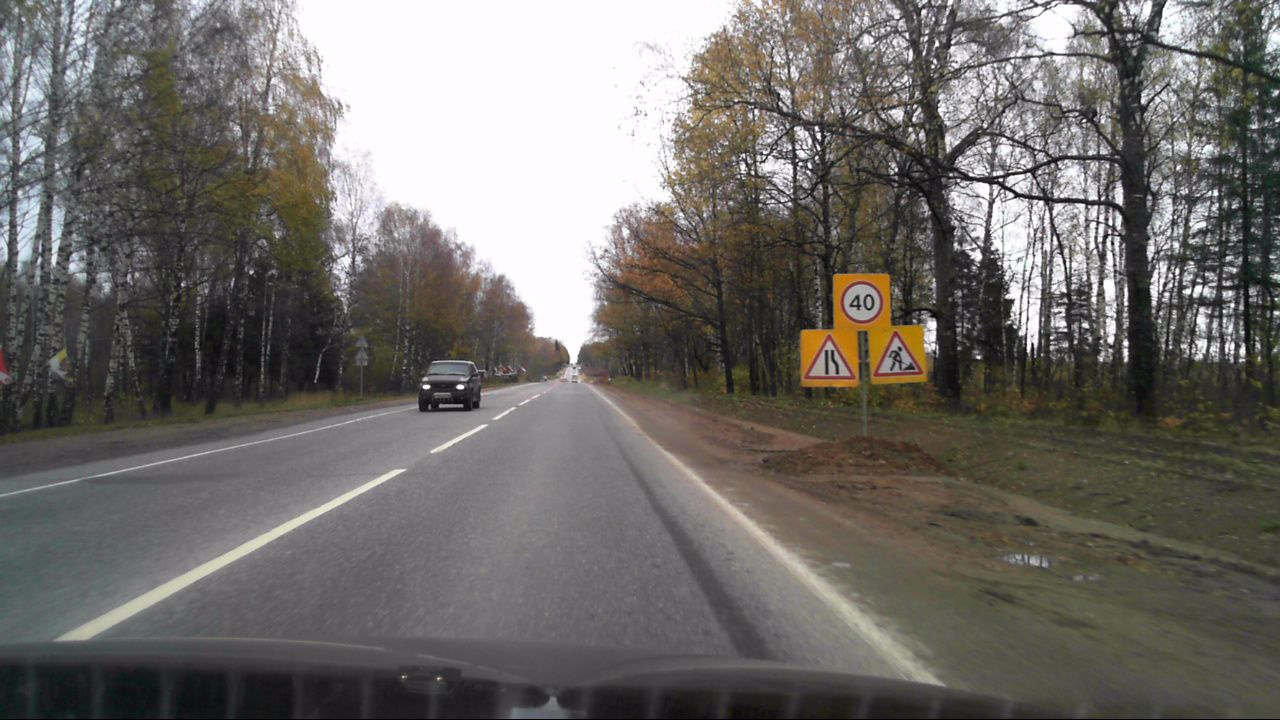speed_warning_40: (833, 274, 890, 331)
